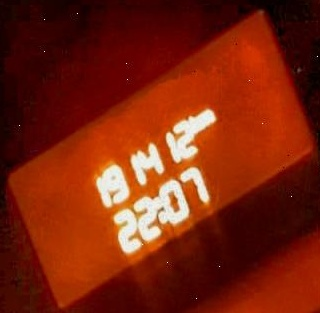0: (157, 176, 188, 222)
1: (94, 174, 112, 209), (128, 152, 146, 185), (165, 131, 180, 163)
2: (112, 207, 140, 253), (132, 194, 158, 242), (172, 117, 195, 158)
4: (135, 140, 163, 174)
7: (178, 163, 210, 202)
9: (102, 162, 130, 203)
X: (195, 107, 215, 127), (153, 193, 166, 223), (187, 114, 199, 133)
